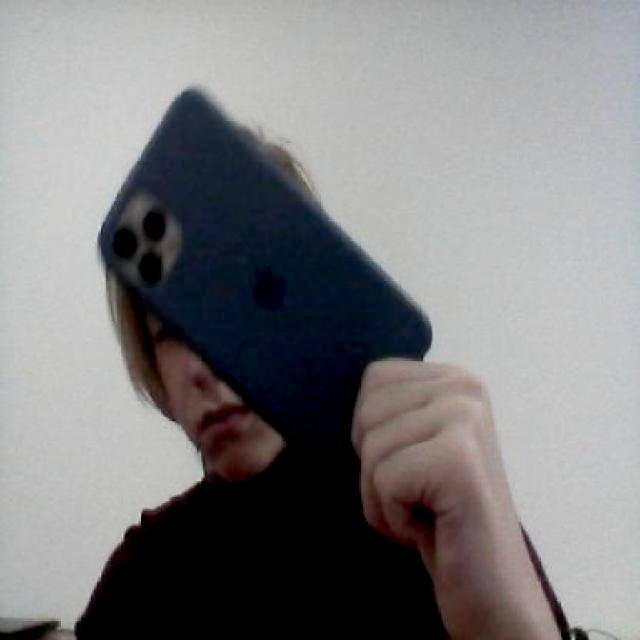lens: (112, 190, 183, 280)
phone: (95, 75, 440, 490)
